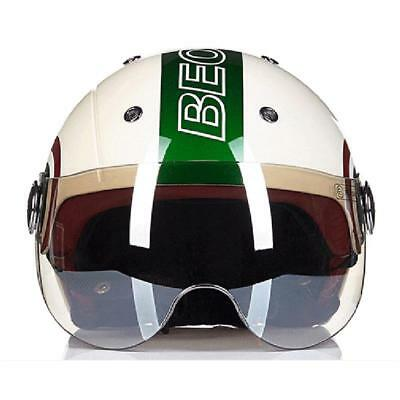with_helmet: (20, 46, 378, 346)
